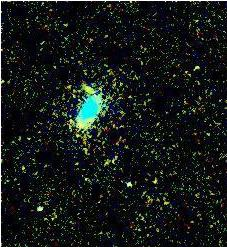star: (73, 75, 103, 105)
